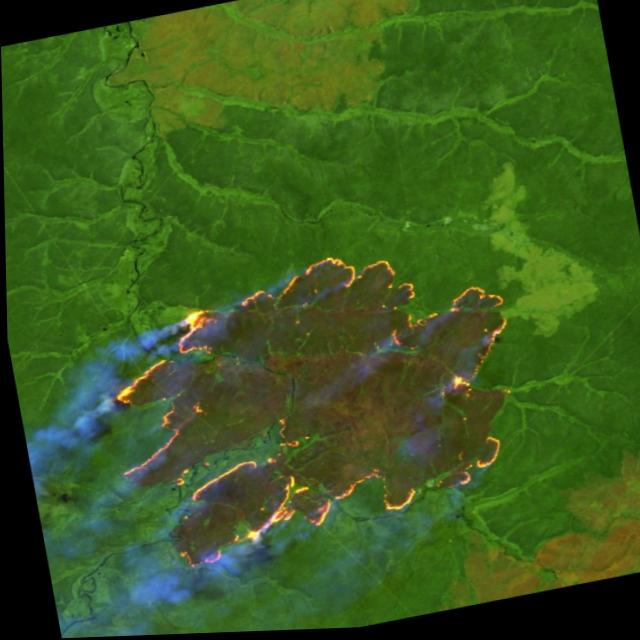fire: (92, 226, 543, 579)
